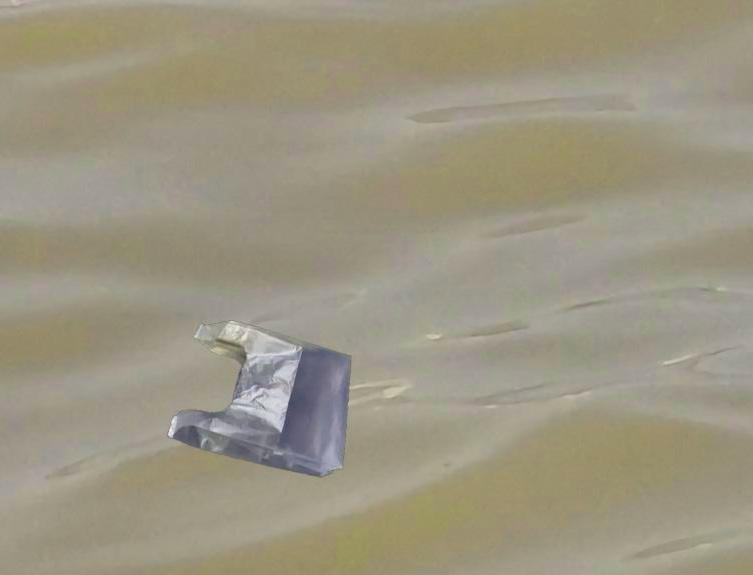Trash: (161, 315, 352, 481)
